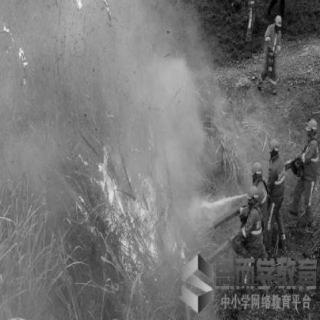Fire: (77, 132, 179, 266)
Smoke: (136, 44, 194, 122)
